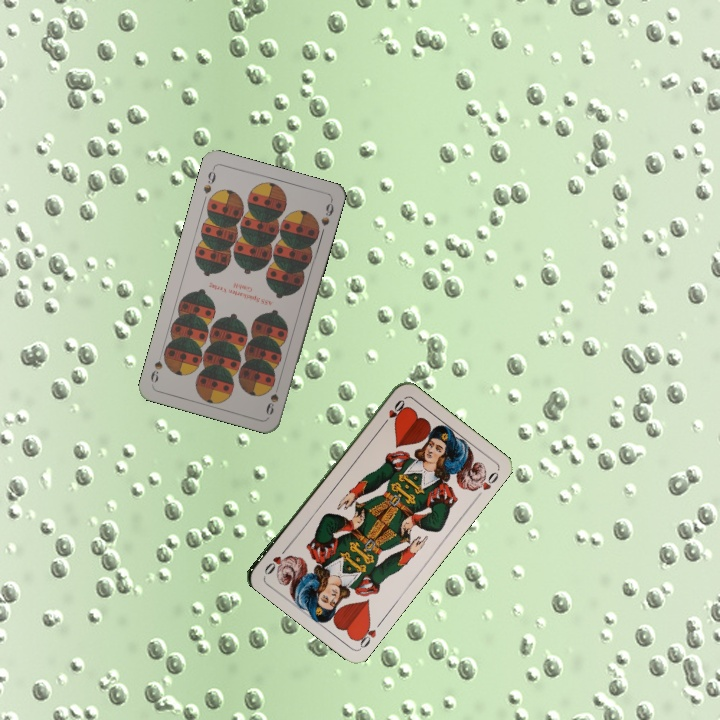HO: (351, 617, 385, 651), (378, 395, 407, 429)
S9: (262, 378, 282, 418), (199, 164, 218, 196)
